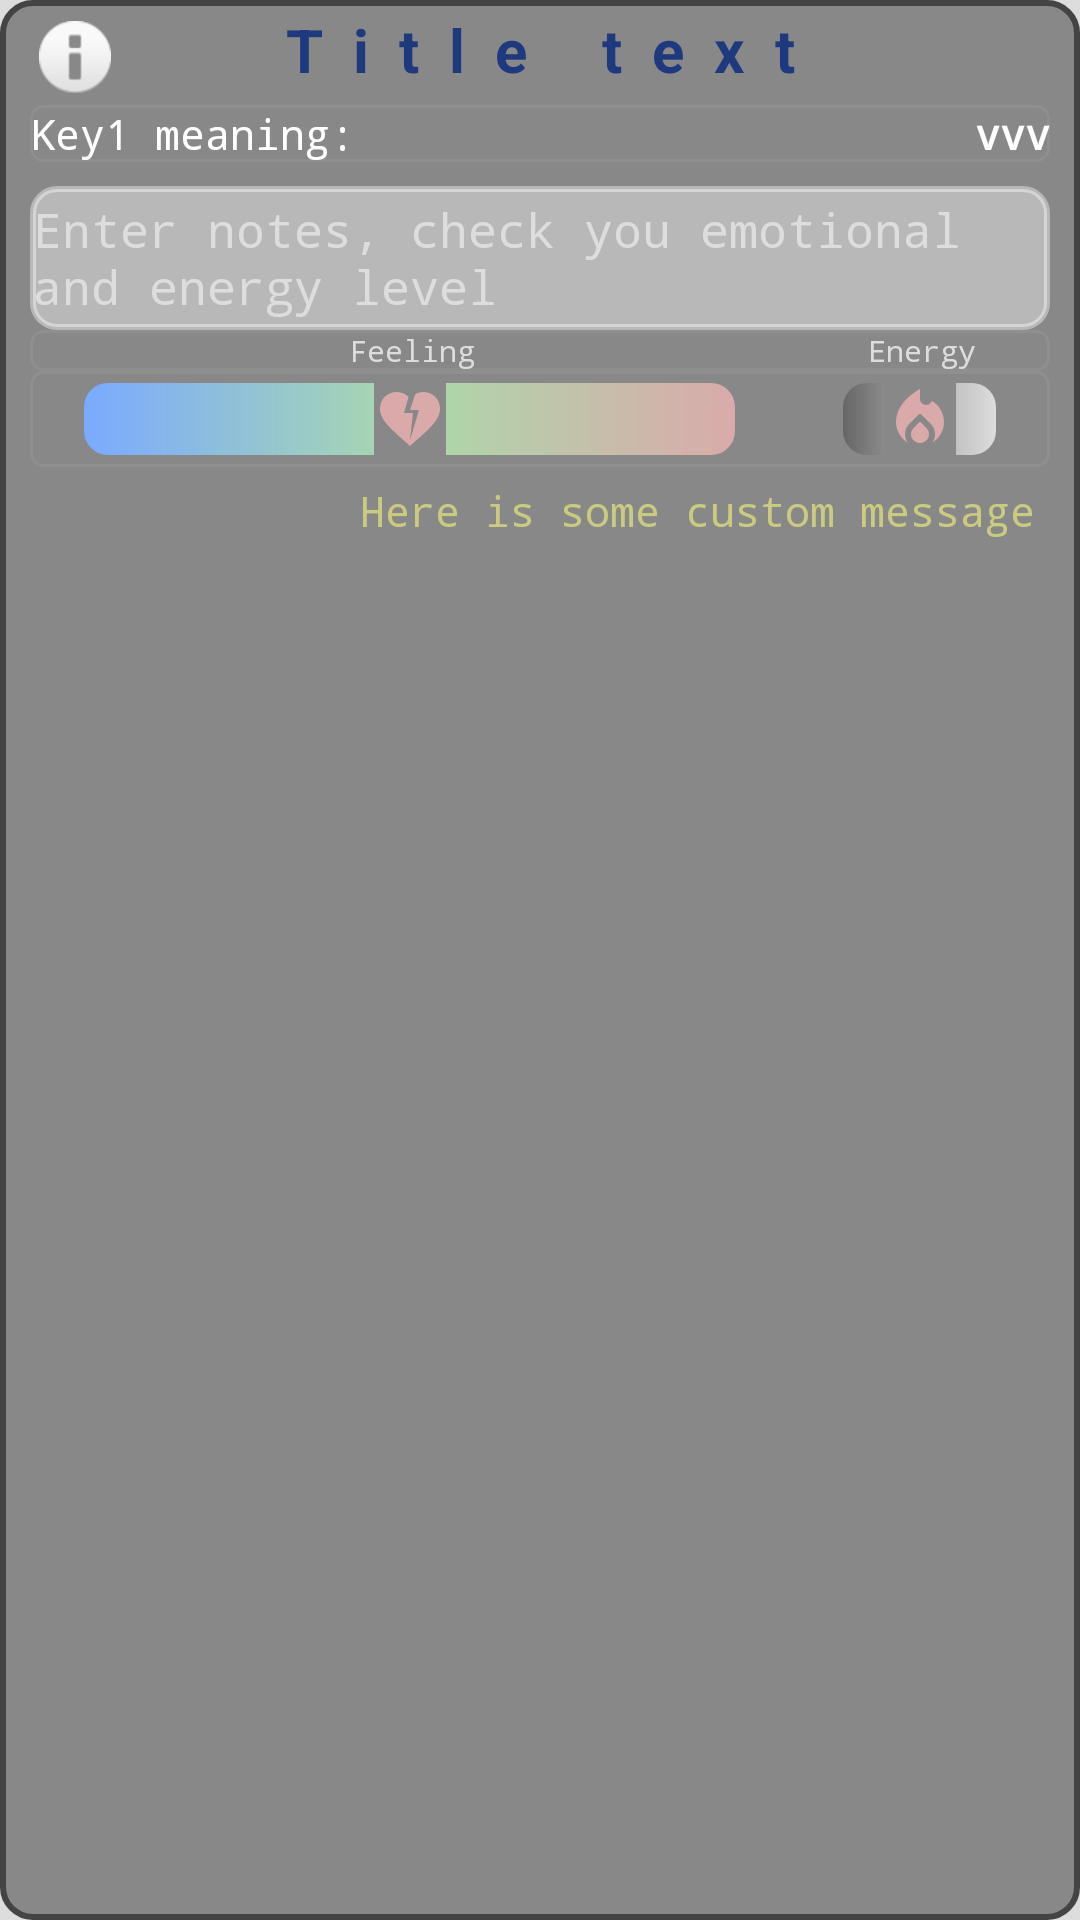

Screen size 1080 x 1920. Icon name, then its box in pixels as region(x1, y1, x2, y2):
info: region(39, 21, 111, 93)
